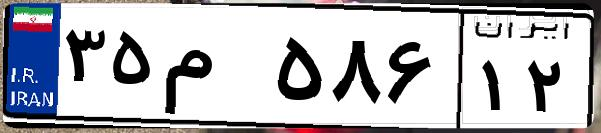1: (475, 38, 525, 113)
2: (525, 38, 570, 115)
3: (57, 26, 110, 100)
5: (270, 28, 330, 110), (110, 28, 158, 98)
6: (385, 28, 445, 110)
8: (330, 28, 385, 110)
م: (158, 20, 270, 120)
